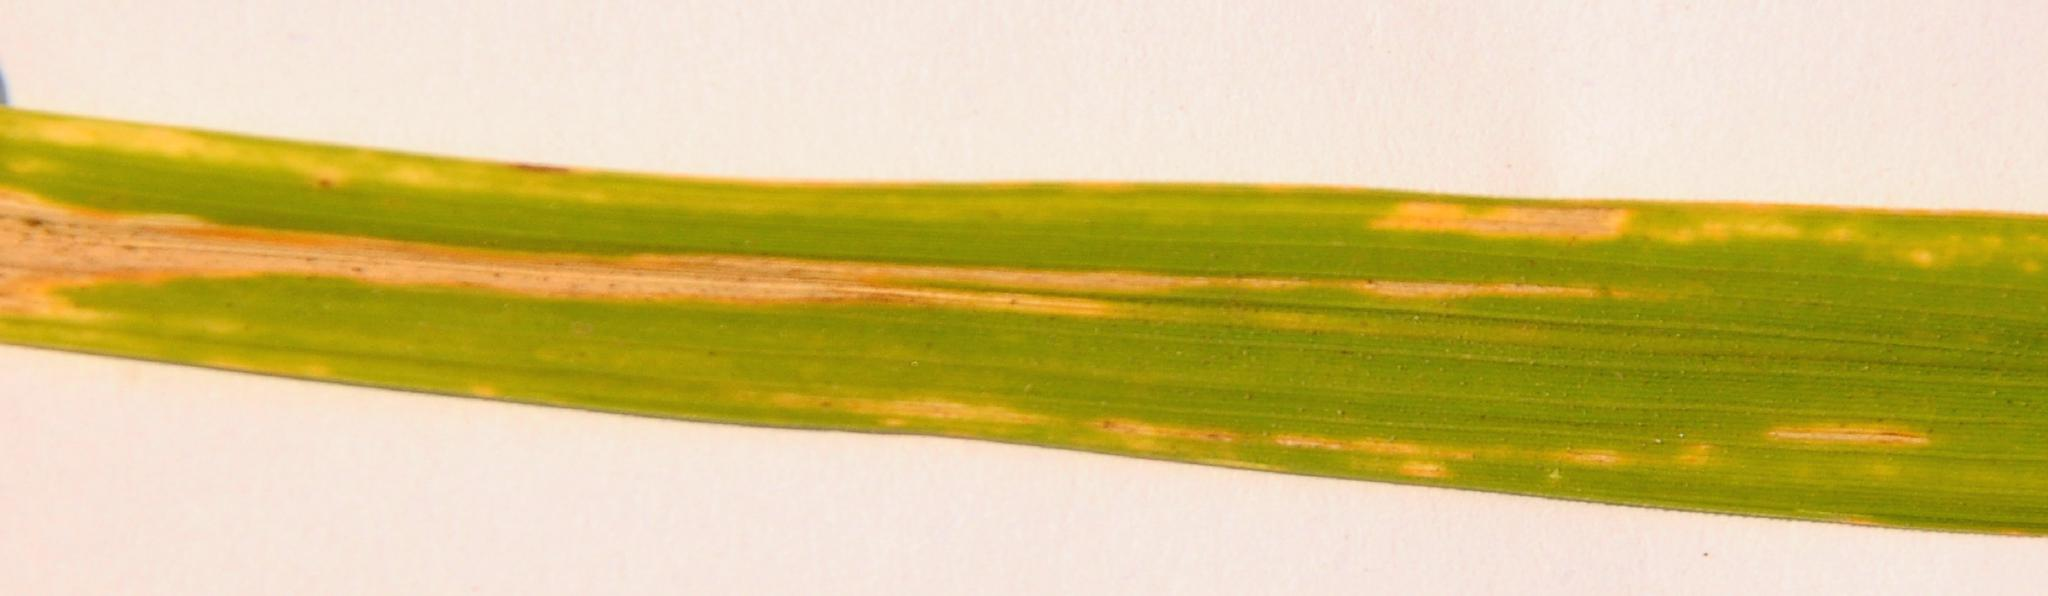2 BacterialBlight: (10, 120, 2009, 472)
